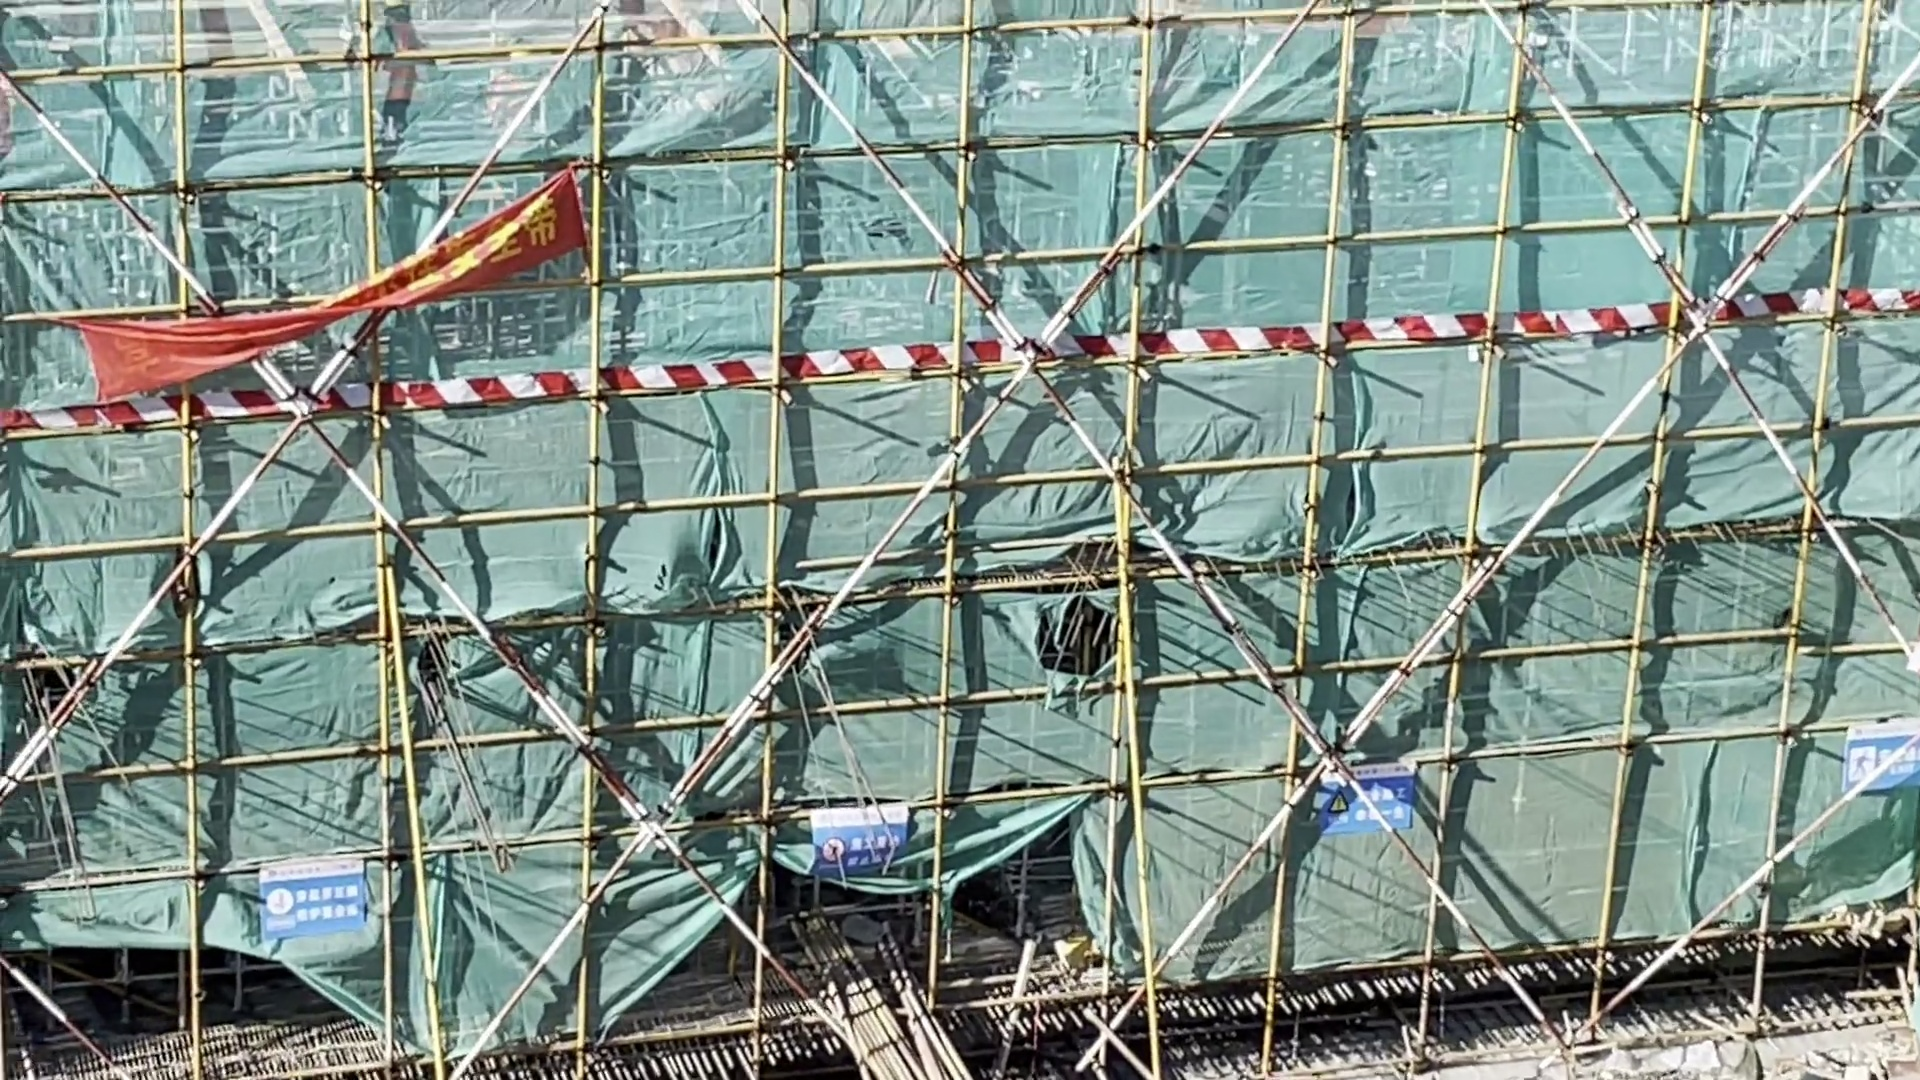slogan: (46, 158, 624, 434), (235, 845, 392, 956), (798, 793, 932, 897), (1313, 749, 1425, 837), (1840, 694, 1920, 814)
